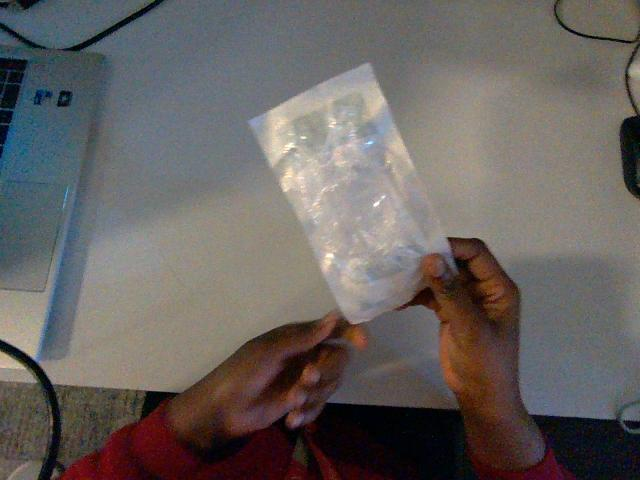gallipot: (249, 64, 452, 322)
